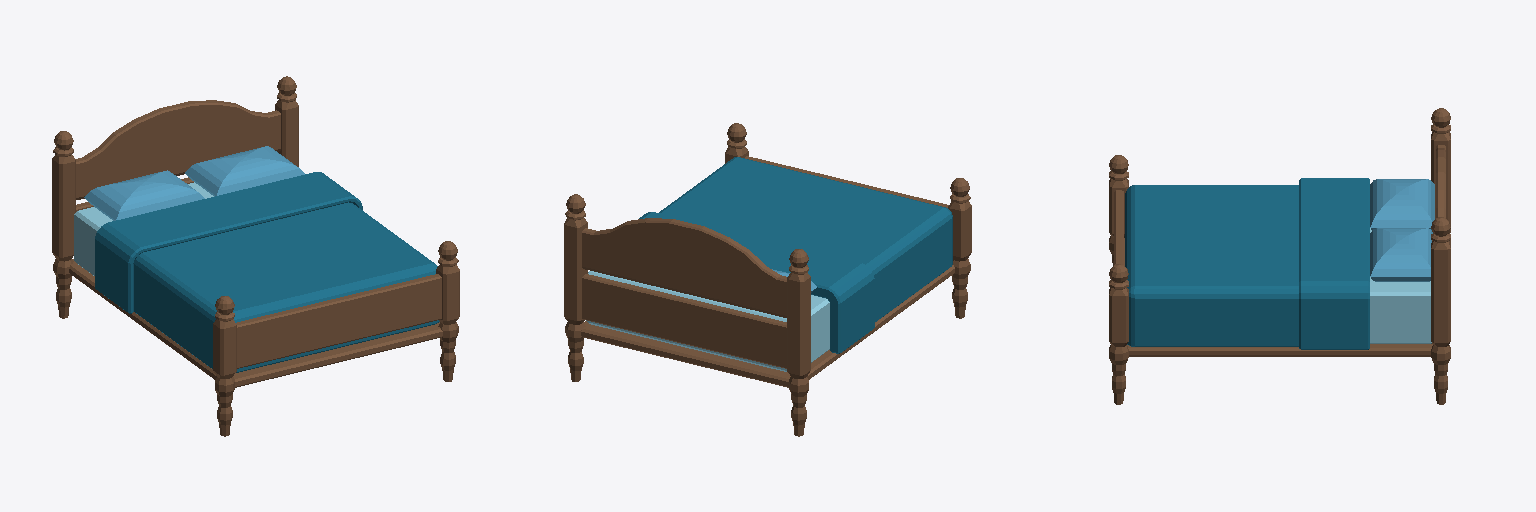
File: Prop_Bedroom_Bed_Queen.obj
3 views of the same model, side by side, from view 1: azimuth 30°, elevation 25°; view 2: azimuth 150°, elevation 25°; view 3: azimuth 270°, elevation 25° (orthographic).
Visible parts, largest first — view 1: object4, object5, object3, object1, object2; view 2: object5, object4, object2; view 3: object4, object5, object2, object1, object3.
Boxes of the visible parts, x1=… form: object4: x1=95, y1=172, x2=439, y2=372; object5: x1=52, y1=76, x2=459, y2=436; object3: x1=84, y1=170, x2=204, y2=220; object1: x1=185, y1=146, x2=304, y2=196; object2: x1=74, y1=182, x2=213, y2=275; object5: x1=564, y1=123, x2=971, y2=436; object4: x1=639, y1=157, x2=952, y2=353; object2: x1=586, y1=271, x2=829, y2=371; object4: x1=1125, y1=178, x2=1369, y2=349; object5: x1=1109, y1=108, x2=1450, y2=404; object2: x1=1370, y1=228, x2=1431, y2=343; object1: x1=1370, y1=228, x2=1432, y2=281; object3: x1=1370, y1=179, x2=1434, y2=230.
Bounding box in the file's own units: 2.15 × 1.58 × 2.65.